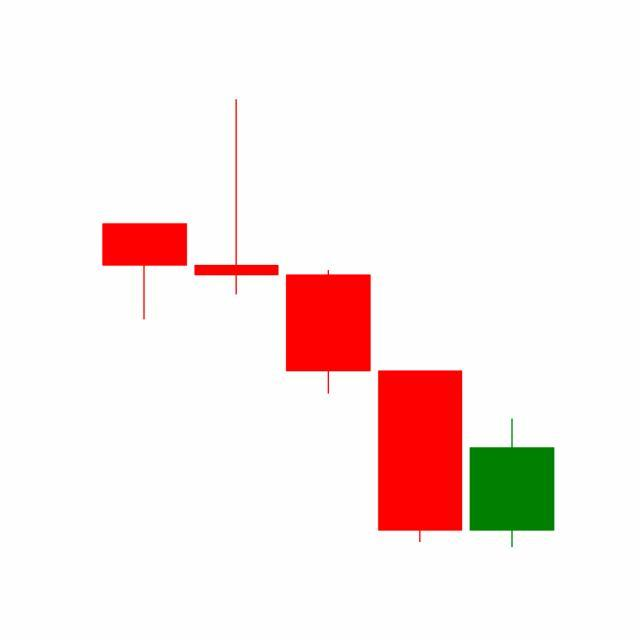Marubozu: (374, 369, 468, 545)
